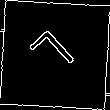L_SE: (26, 26, 84, 84)
